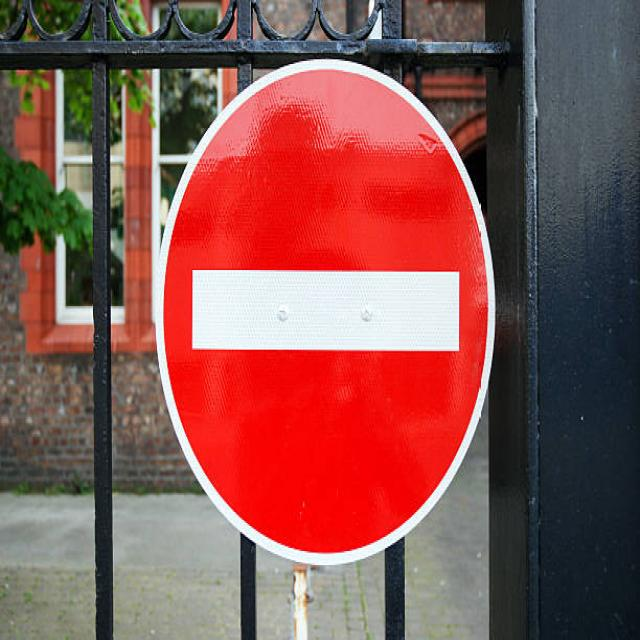do_not_enter: (150, 51, 500, 570)
